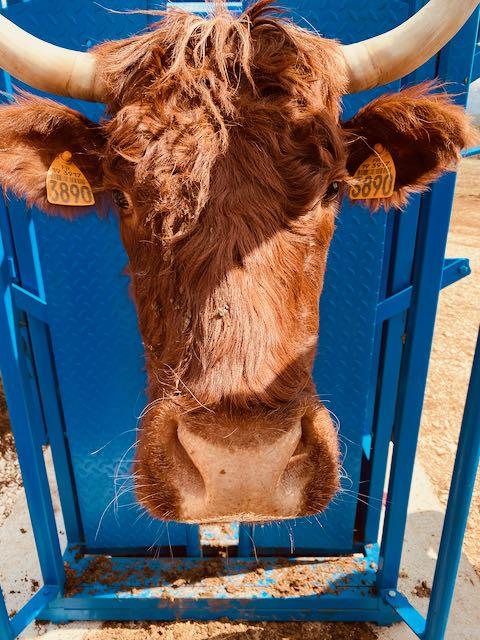muzzles: (122, 398, 343, 530)
